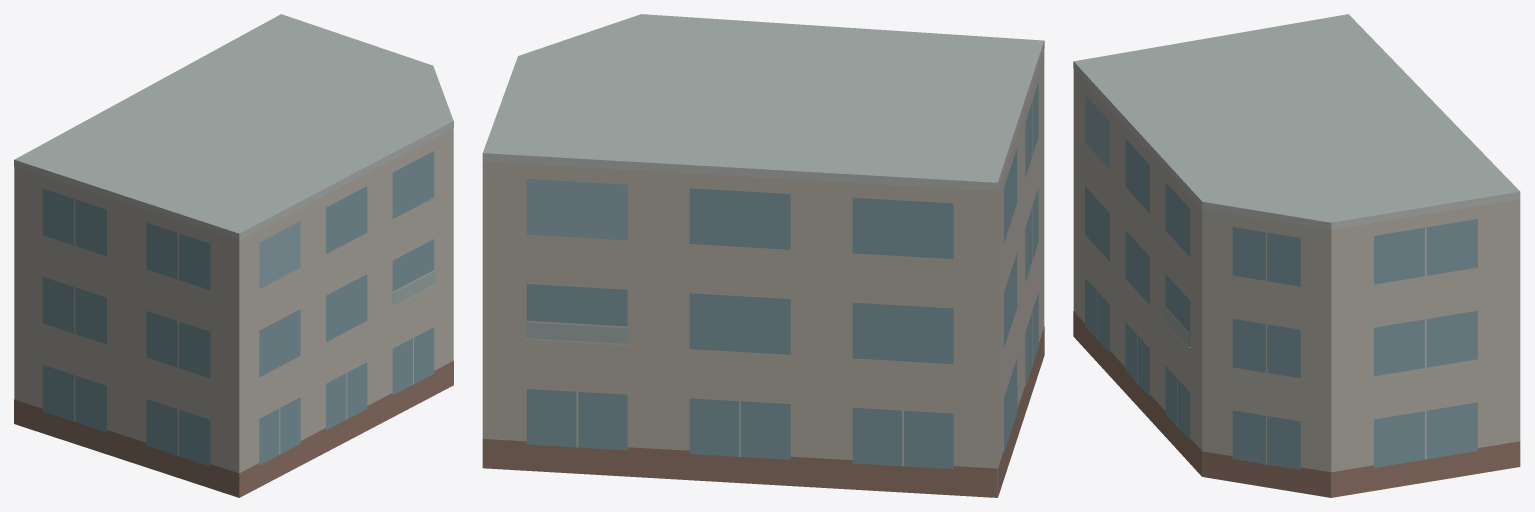
File: survey-upis-32702049.glb
3 renders of one model, left to right at view 1: azimuth 30°, elevation 25°; view 2: azimuth 150°, elevation 25°; view 3: azimuth 270°, elevation 25°, orthographic. The views are drawn at different scales.
Parts seen in each view (by area): view 1: survey-upis-32702049.tmp; view 2: survey-upis-32702049.tmp; view 3: survey-upis-32702049.tmp.
Part boxes in pixels (x1,y1,x2,y2): survey-upis-32702049.tmp: [14, 14, 453, 497]; survey-upis-32702049.tmp: [482, 14, 1044, 497]; survey-upis-32702049.tmp: [1073, 14, 1520, 497].
Bounding box in the file's own units: 14.89 × 9.15 × 13.48.
